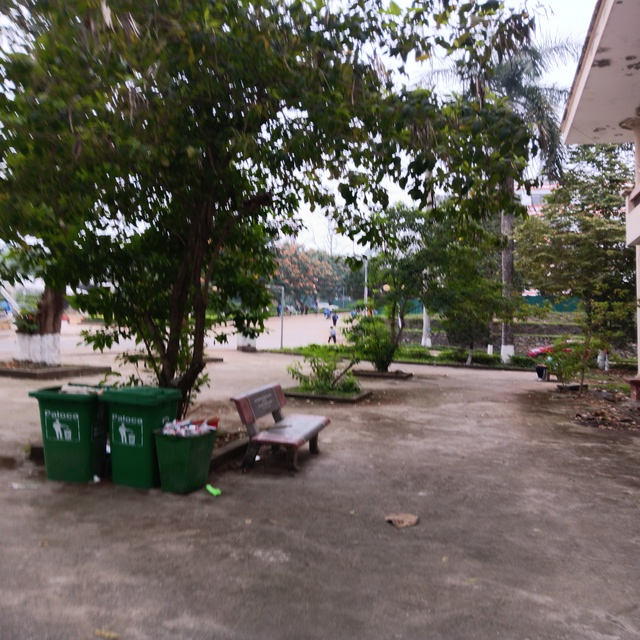thungrac: (27, 376, 112, 497), (97, 379, 186, 486), (155, 412, 224, 500)
